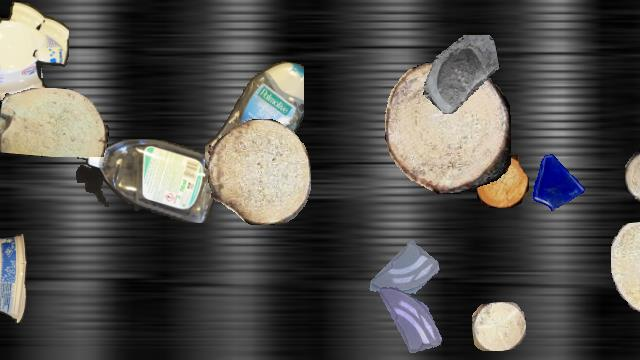glass: (421, 35, 499, 113), (372, 285, 446, 359), (367, 238, 439, 310), (0, 30, 46, 124), (527, 151, 587, 211)
plastic: (205, 57, 303, 191), (76, 139, 222, 223), (0, 1, 68, 101), (0, 234, 27, 322)
wood: (385, 61, 511, 193), (208, 119, 310, 225), (0, 88, 108, 156), (611, 221, 640, 319), (476, 155, 528, 207), (472, 302, 526, 350), (625, 149, 640, 205)
